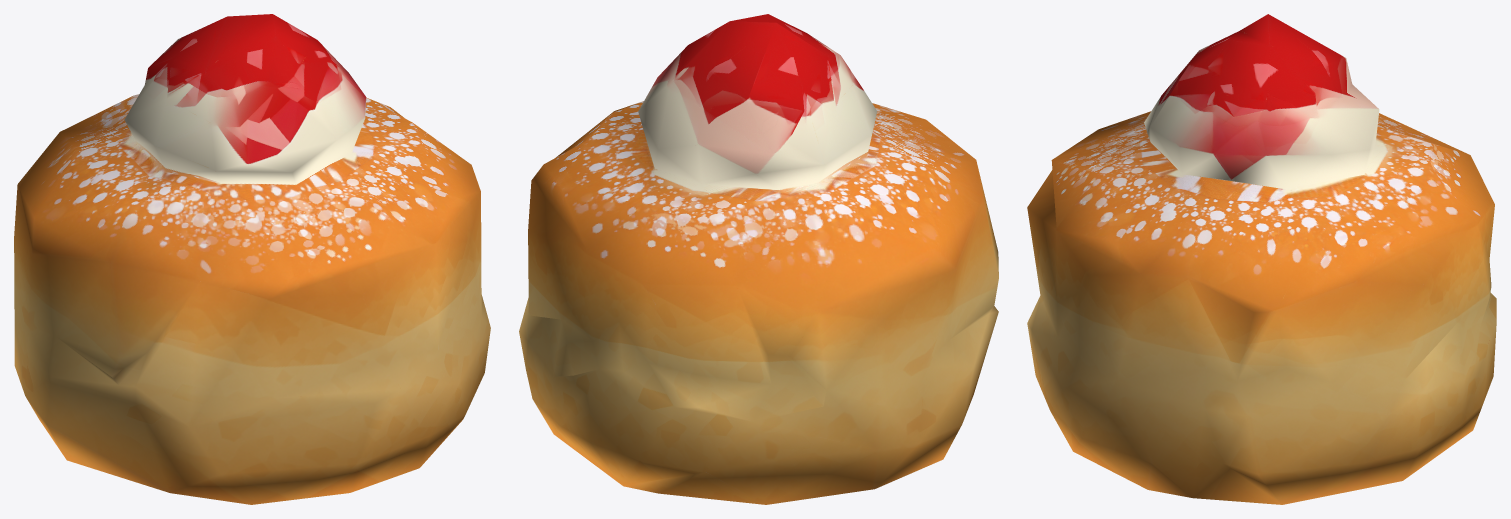
Rendered from source.fbx.
The picture shows the model from 3 angles, left to right: view 1: azimuth 30°, elevation 25°; view 2: azimuth 150°, elevation 25°; view 3: azimuth 270°, elevation 25°; orthographic projection. The views are drawn at different scales.
Visible parts, largest first — view 1: Mesh_0; view 2: Mesh_0; view 3: Mesh_0.
Boxes of the visible parts, box(x1,y1,x2,y2) form: Mesh_0: box(14, 14, 490, 504); Mesh_0: box(519, 14, 998, 504); Mesh_0: box(1027, 14, 1496, 504).
Size of the model in its own units: 19.47 by 18 by 19.48.
1 material, 1 textured.
